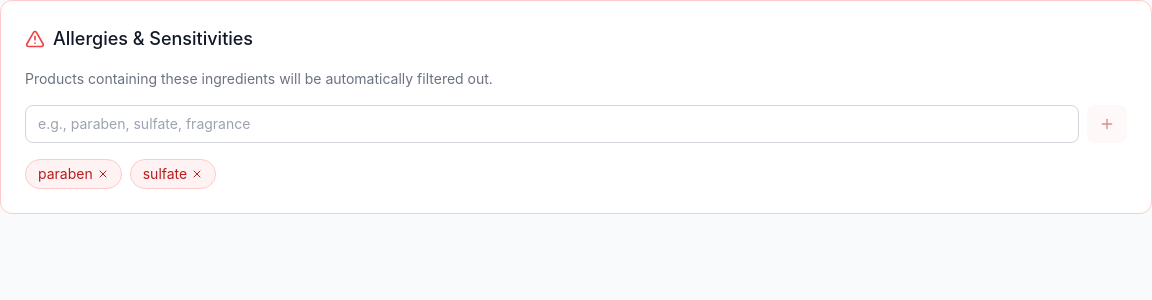
Test case: AllergyManager › adds a new allergy via Enter key
The image size is (1152, 300).
In the field with placeholder "e.g., paraben, sulfate, fragrance": (552, 124) [25,105,1079,143], type "retinol"
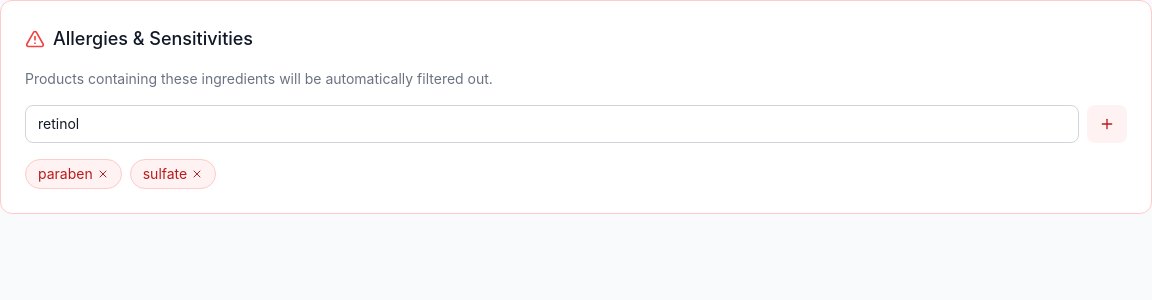
Press Enter in the field with placeholder "e.g., paraben, sulfate, fragrance", box [25,105,1079,143]
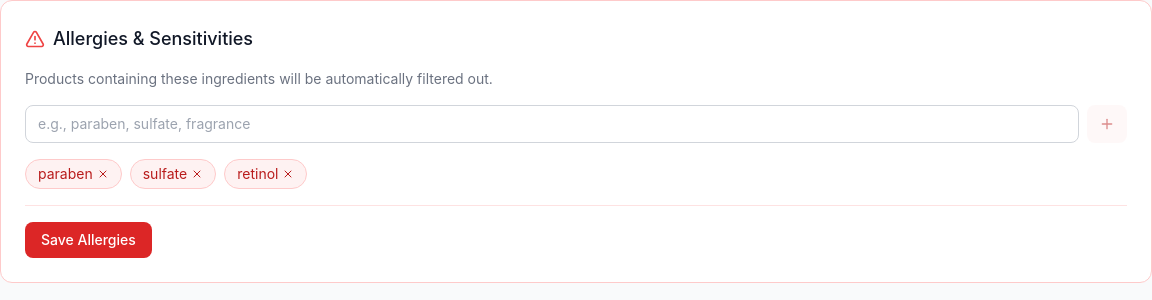
Result: the text "retinol" is shown at [224,159,307,189]
